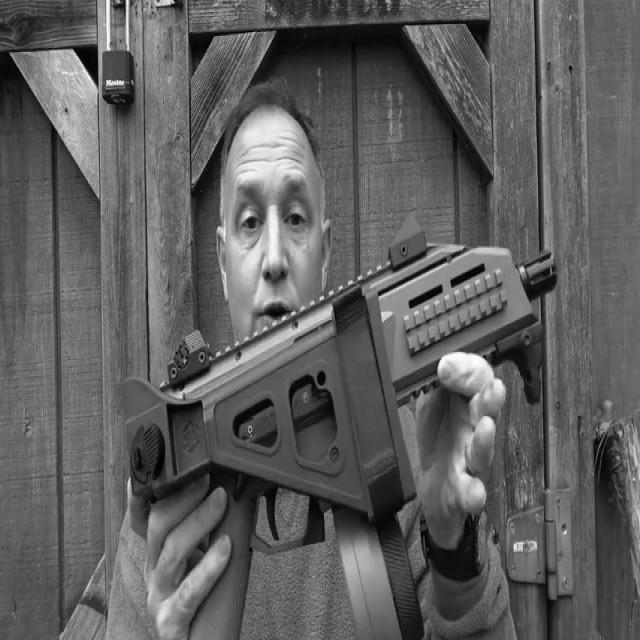Sub-machine-gun: (93, 169, 592, 640)
